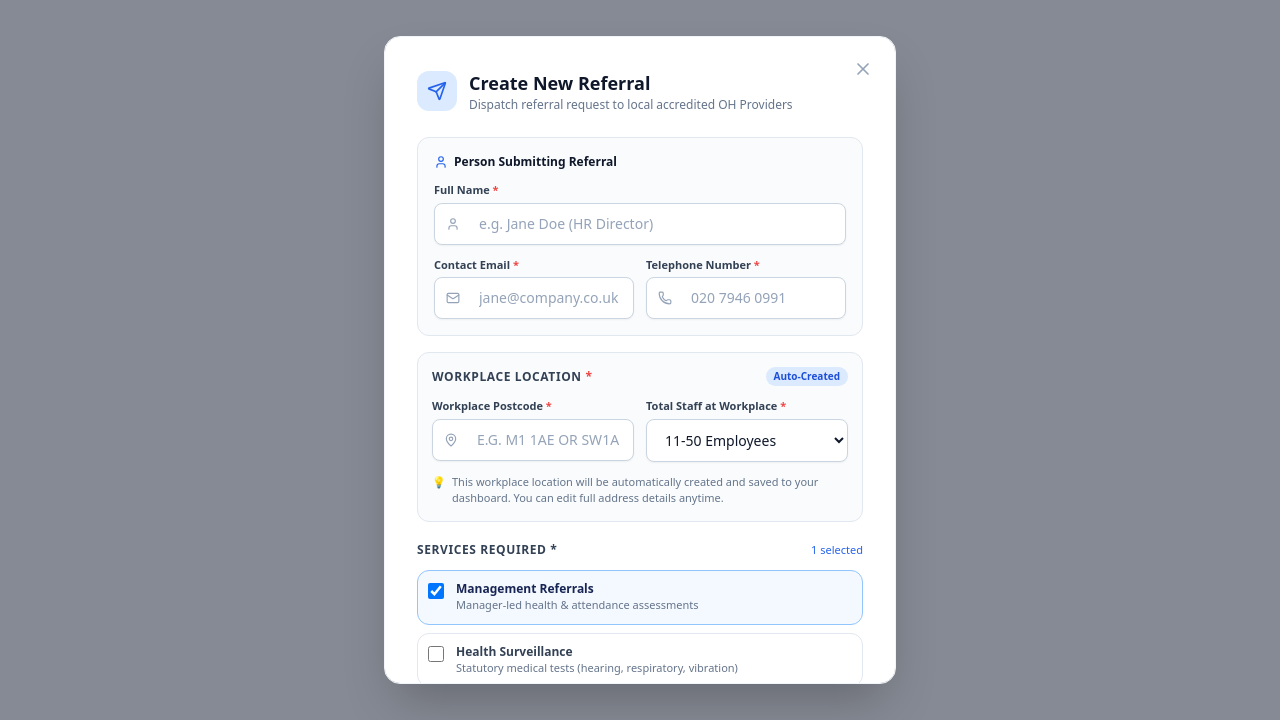
Test: Referral Submission & Proximity Modal - Stage Tests › Stage 3: Submits referral with on-the-fly postcode & headcount when no locations exist
The width and height of the screenshot is (1280, 720).
Expected: the text "Auto-Created" is shown, [766,367,848,386]
Expected: the field with placeholder "e.g. M1 1AE or SW1A 1AA" is shown, [432,418,634,460]
In the field with placeholder "e.g. Jane Doe (HR Director)": (640, 224) [434,202,846,244], type "Alex HR"
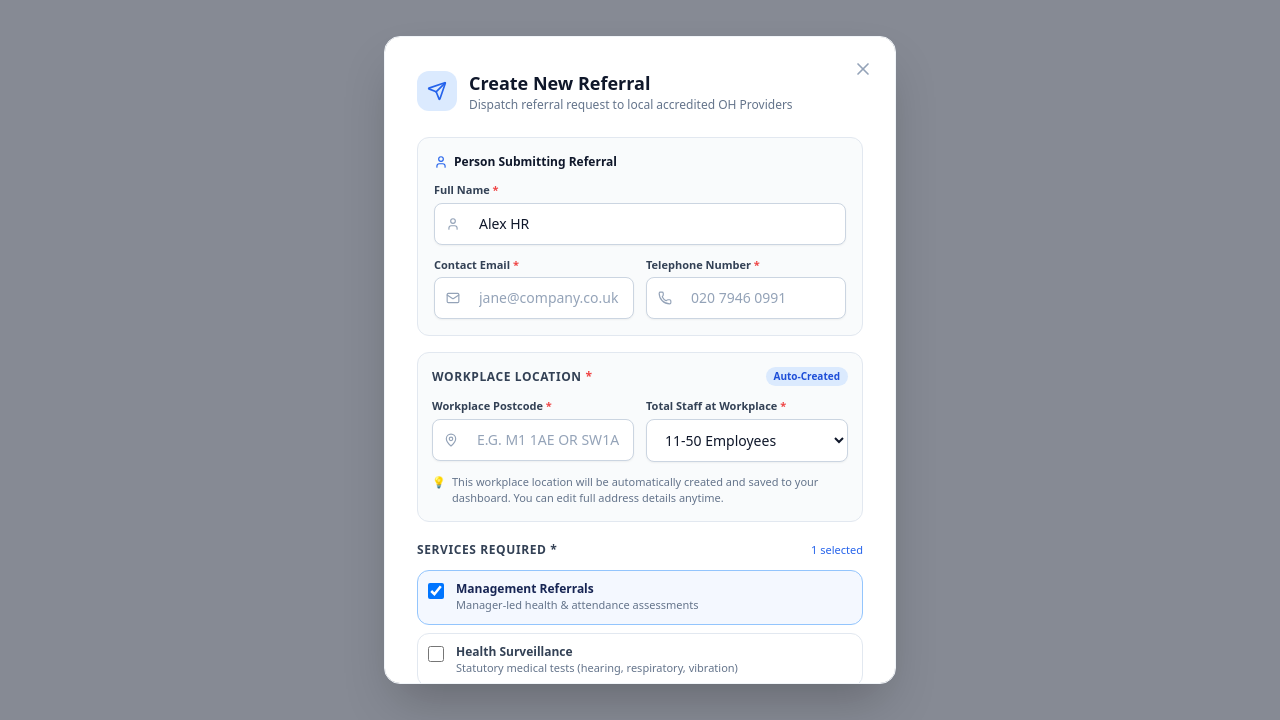
In the field with placeholder "jane@company.co.uk": (534, 298) [434,277,634,319], type "alex@startup.co.uk"
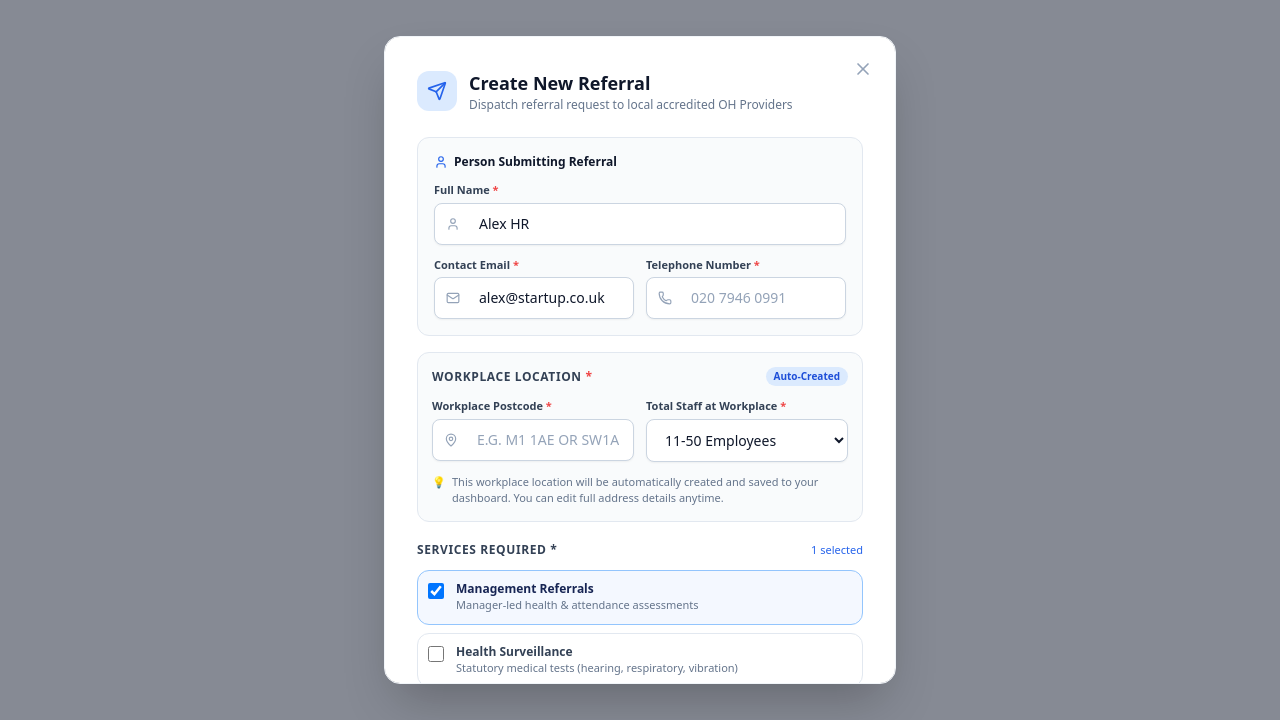
In the field with placeholder "020 7946 0991": (746, 298) [646,277,846,319], type "0161 789 0123"
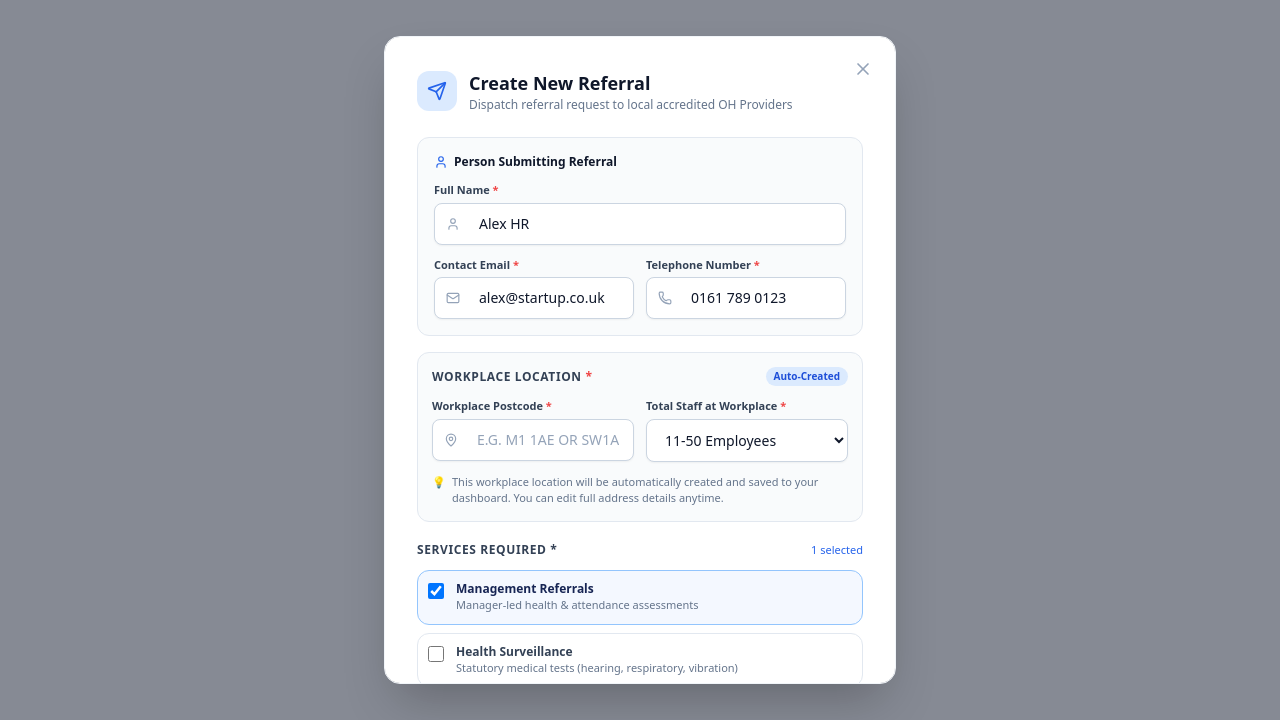
In the field with placeholder "e.g. M1 1AE or SW1A 1AA": (533, 440) [432,418,634,460], type "M1 1AE"
(page scrolled)
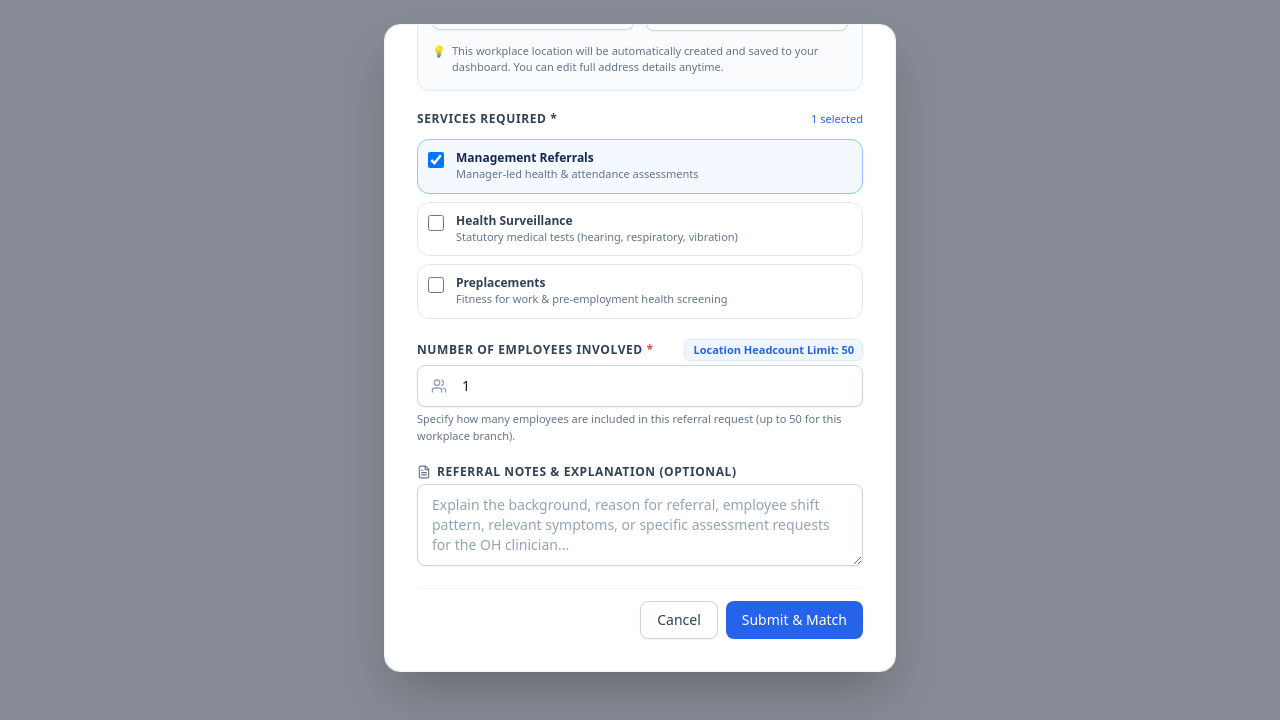
In the number field with placeholder "1": (640, 386) [417,365,863,407], type "5"
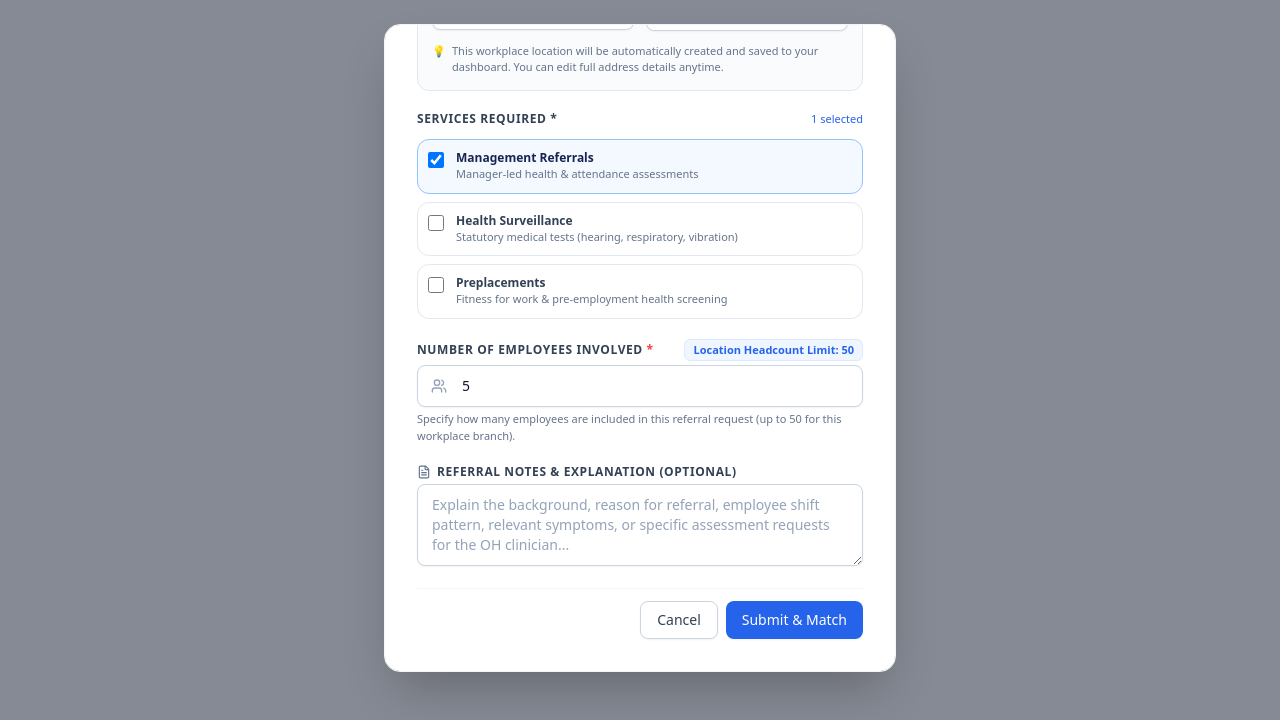
Click the button "Submit & Match": (794, 620) [726,601,863,639]
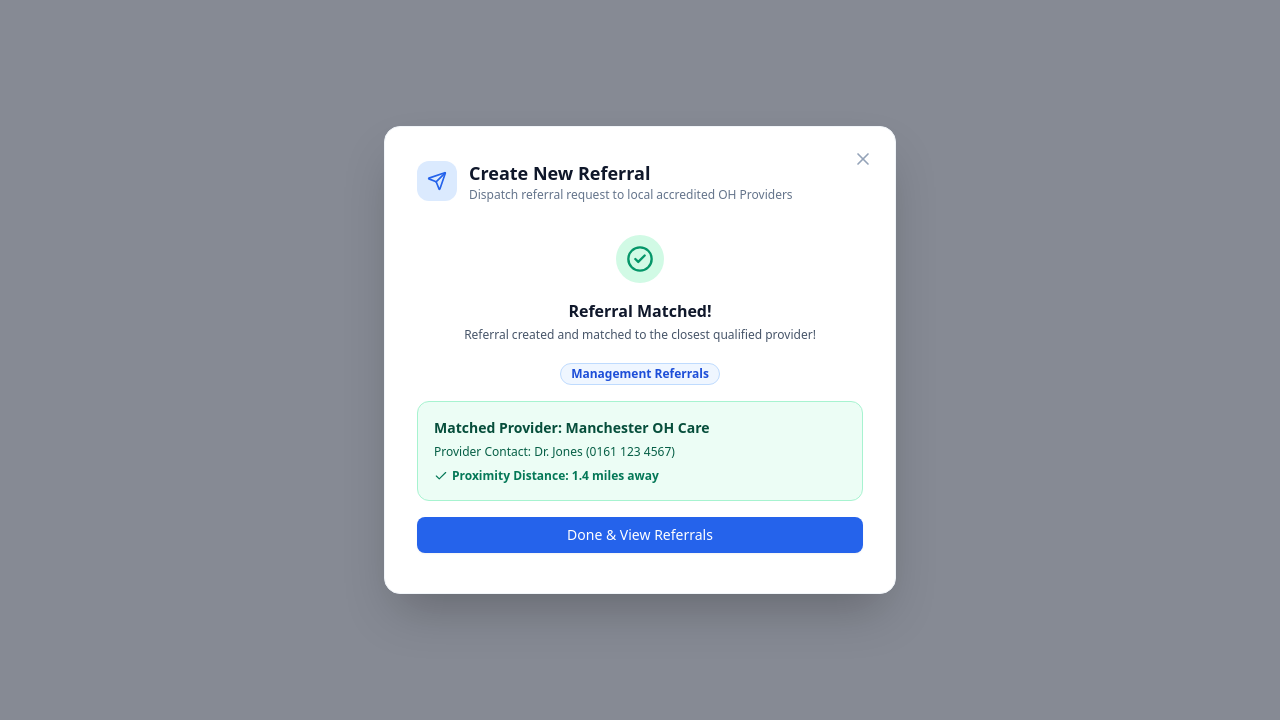
Expected: the heading "Referral Matched!" is shown, [568,300,712,322]
Expected: the text "Matched Provider: Manchester OH Care" is shown, [434,418,710,437]
